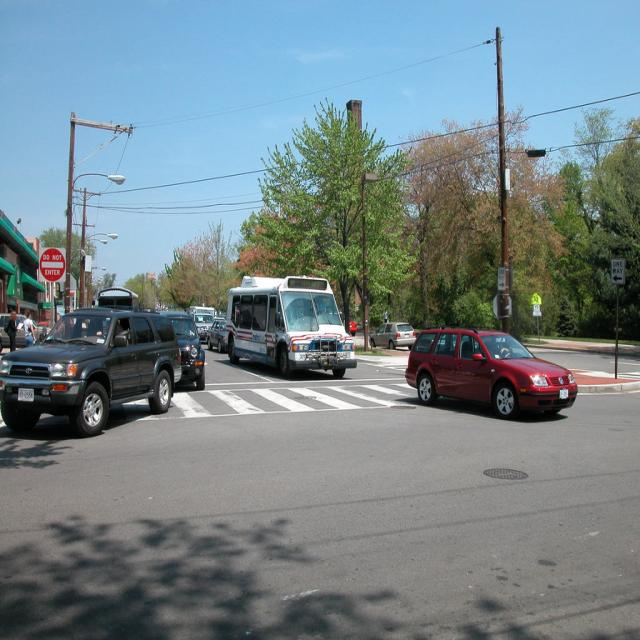car: (0, 304, 182, 438), (401, 322, 580, 424), (367, 319, 418, 356)
